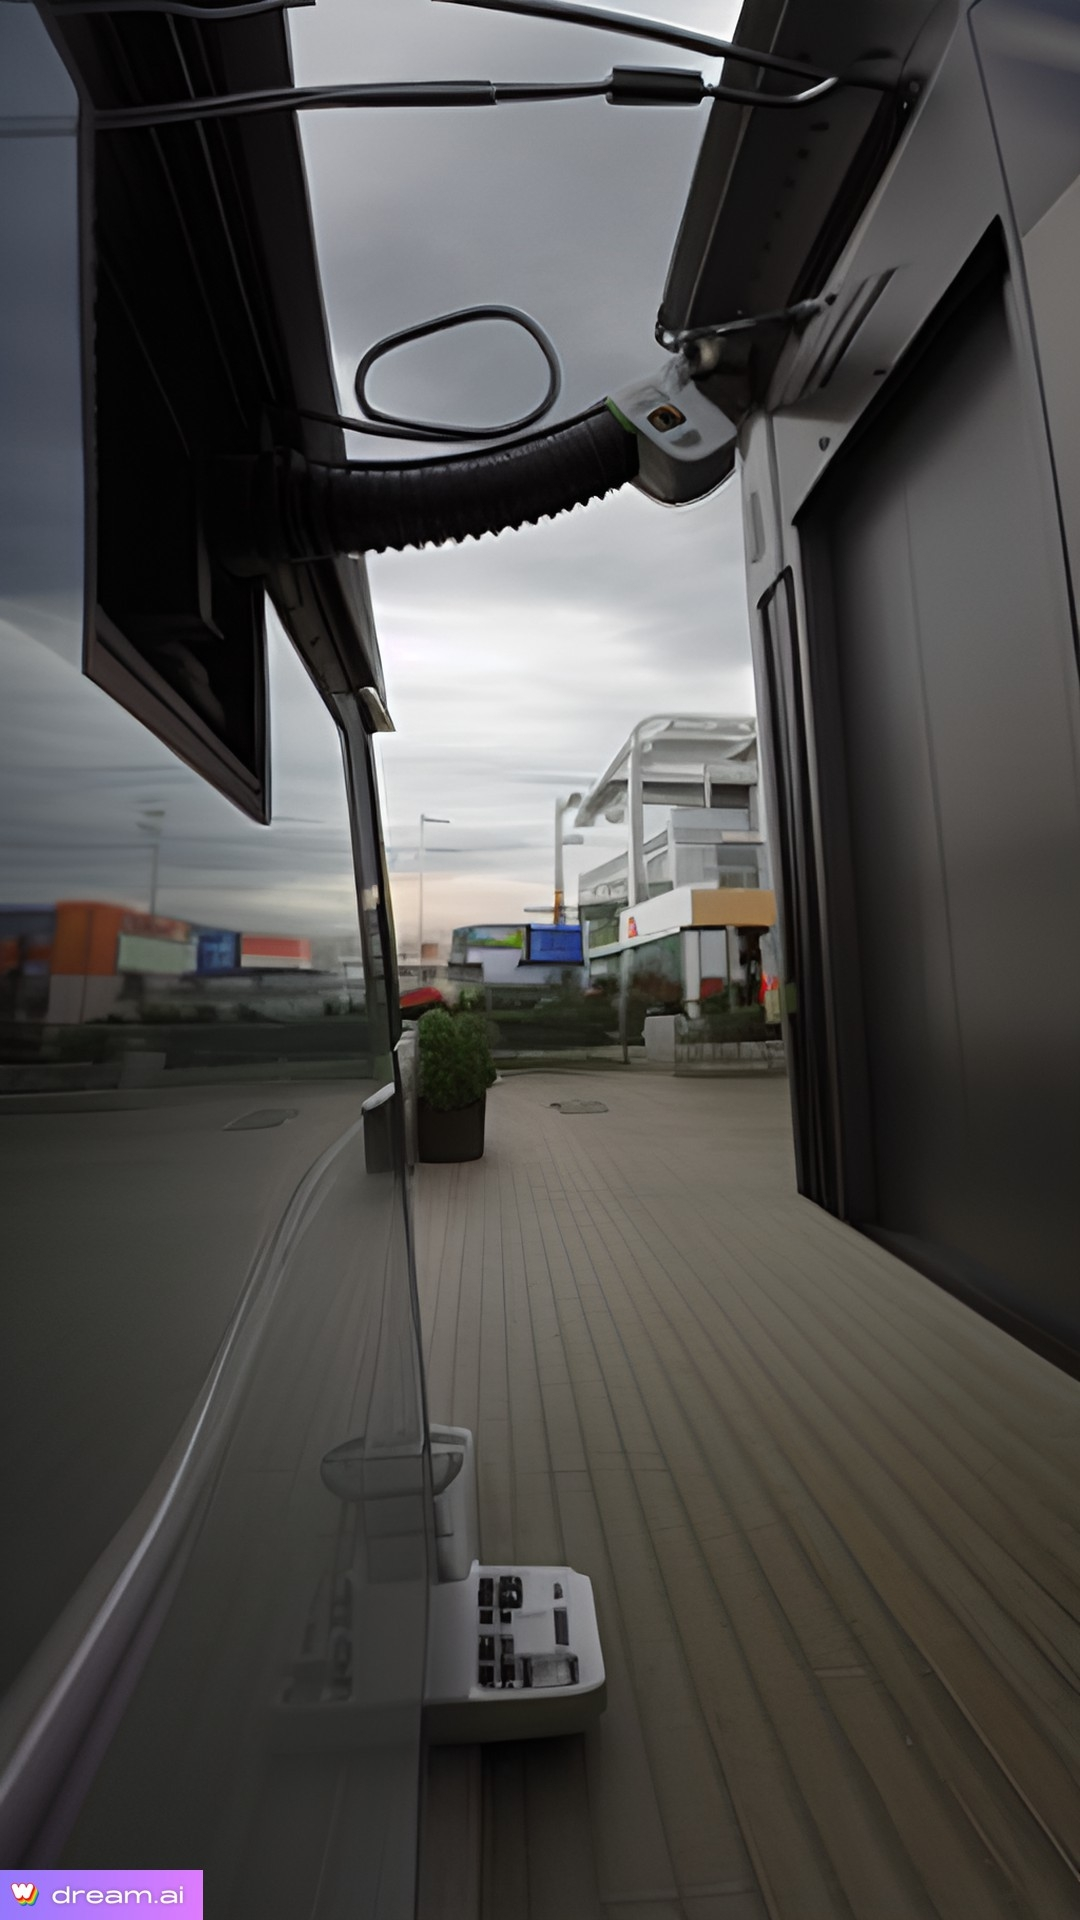step_back: (389, 1422, 637, 1778)
